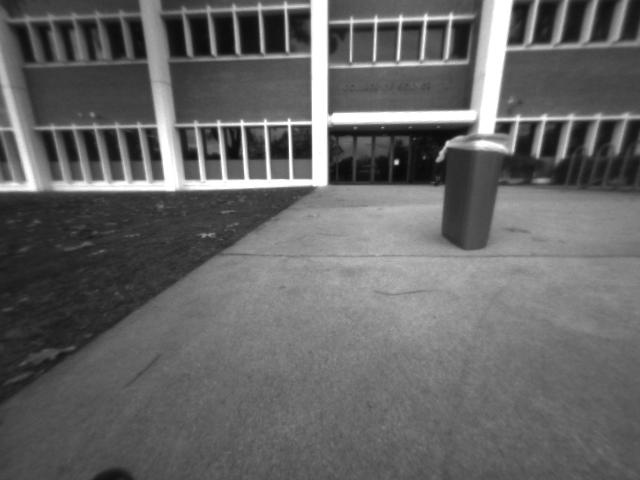trashcan_open: (437, 126, 513, 261)
